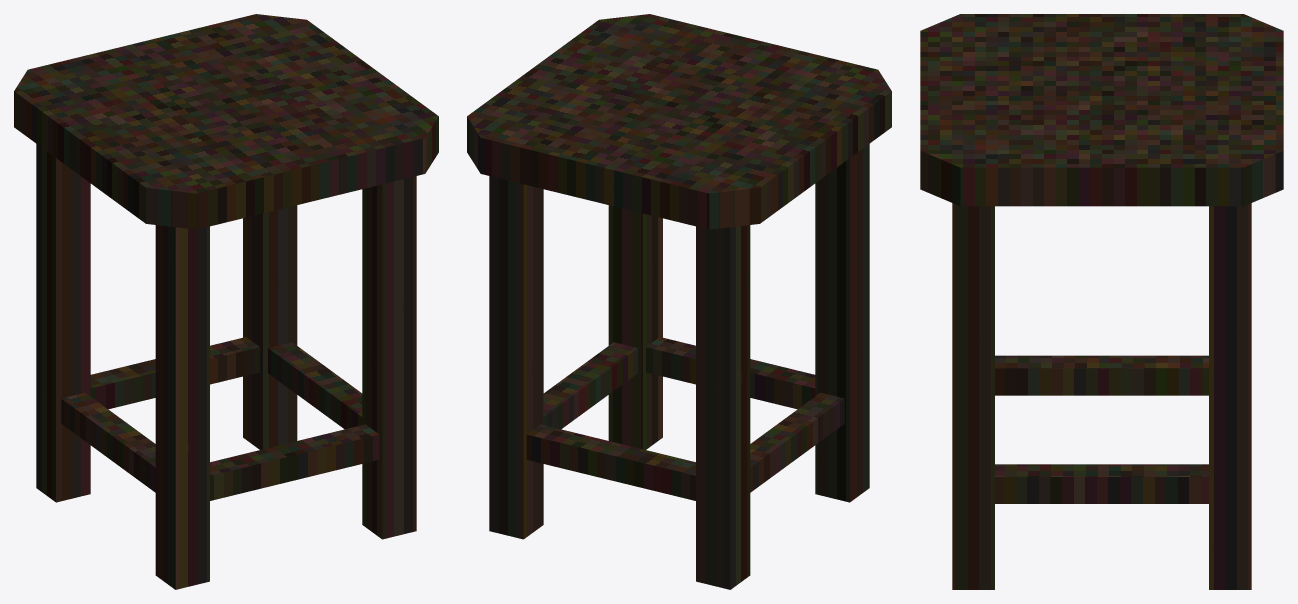
The model's file is Stool.glb.
3 views of the same model, side by side, from view 1: azimuth 30°, elevation 25°; view 2: azimuth 150°, elevation 25°; view 3: azimuth 270°, elevation 25° (orthographic). The views are drawn at different scales.
Visible parts, largest first — view 1: Stool; view 2: Stool; view 3: Stool.
Boxes of the visible parts, x1,y1,x2,y2 form: Stool: (14,14,438,589); Stool: (467,14,891,589); Stool: (920,14,1283,589).
Bounding box in the file's own units: 0.34 × 0.45 × 0.34.
Materials: 1 (1 with a texture image).
